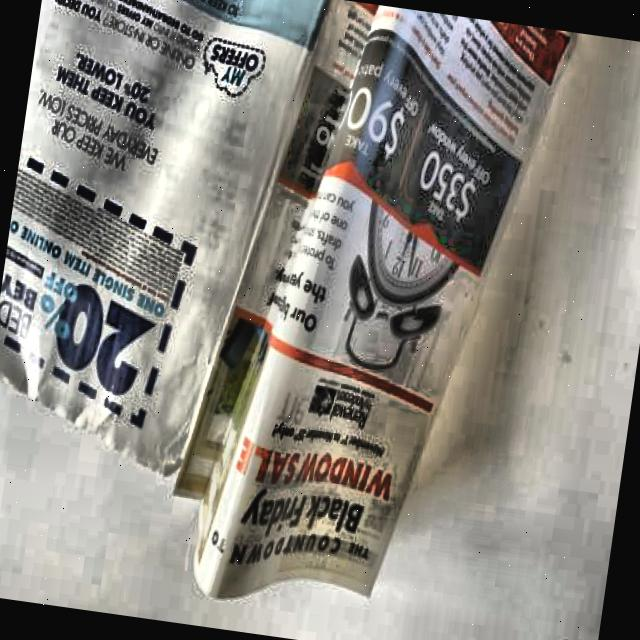paper: (0, 0, 565, 603)
